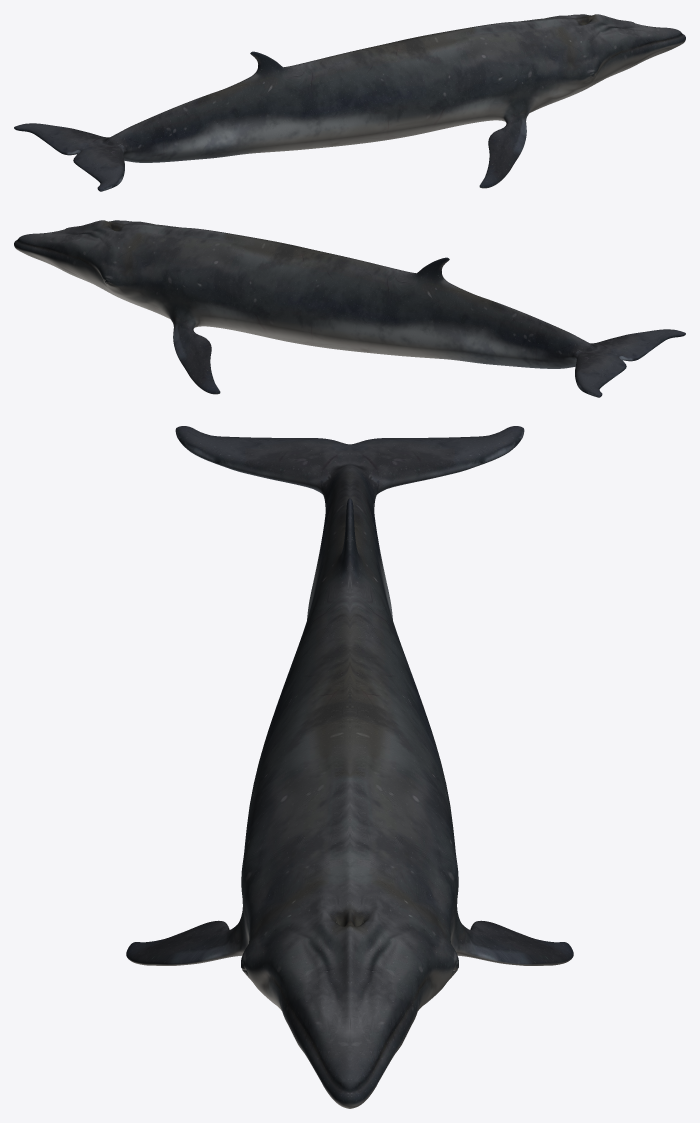
The model's file is model-cetacean-balaenoptera-ricei-v0677.glb.
The picture shows the model from 3 angles, top to bottom: view 1: azimuth 30°, elevation 25°; view 2: azimuth 150°, elevation 25°; view 3: azimuth 270°, elevation 25°; orthographic projection. The views are drawn at different scales.
Visible parts, largest first — view 1: balaenoptera-ricei source-derived exterior; view 2: balaenoptera-ricei source-derived exterior; view 3: balaenoptera-ricei source-derived exterior.
Boxes of the visible parts, bbox=[...] form: balaenoptera-ricei source-derived exterior: bbox=[14, 14, 685, 191]; balaenoptera-ricei source-derived exterior: bbox=[14, 220, 685, 397]; balaenoptera-ricei source-derived exterior: bbox=[126, 426, 573, 1108].
Bounding box in the file's own units: 3.84 × 0.8147 × 1.18.
1 material, 1 textured.
